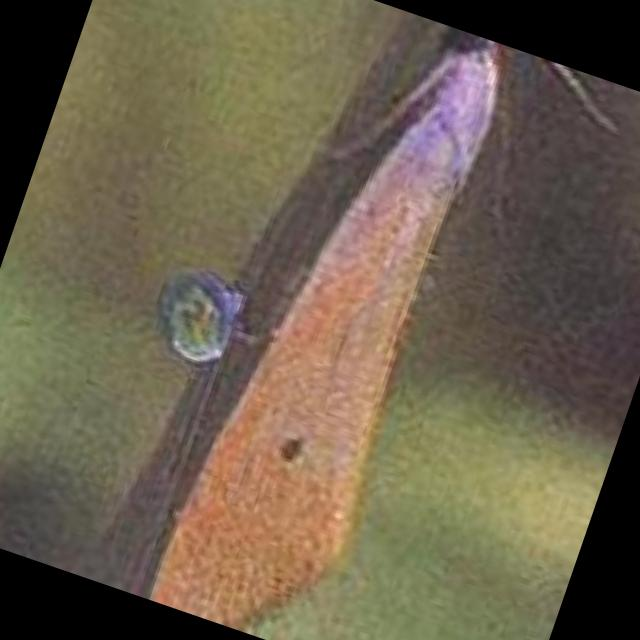stem-borer: (152, 0, 520, 640)
